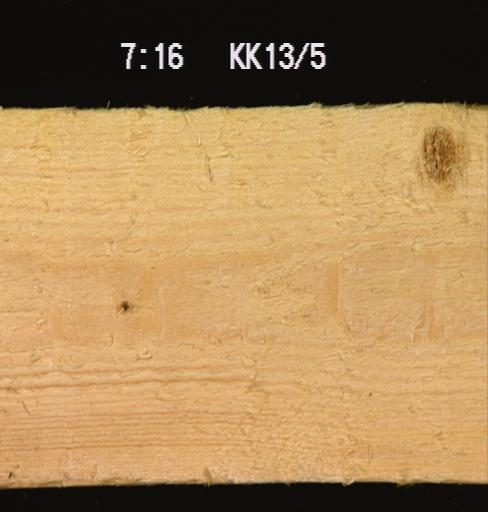small_knot: (112, 294, 133, 317)
sound_knot: (417, 123, 461, 184)
